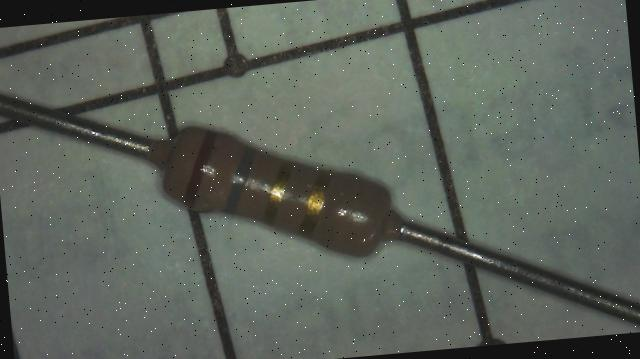brown: (178, 129, 222, 208)
gold: (296, 170, 336, 237), (259, 160, 298, 226)
grey: (220, 145, 262, 215)
resistor: (115, 89, 422, 283)
